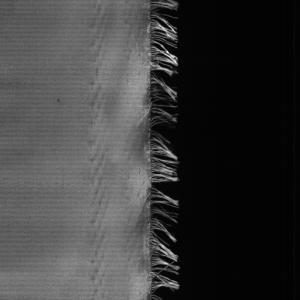Damage: (122, 1, 188, 300)
Wrinkle: (1, 1, 66, 300)
